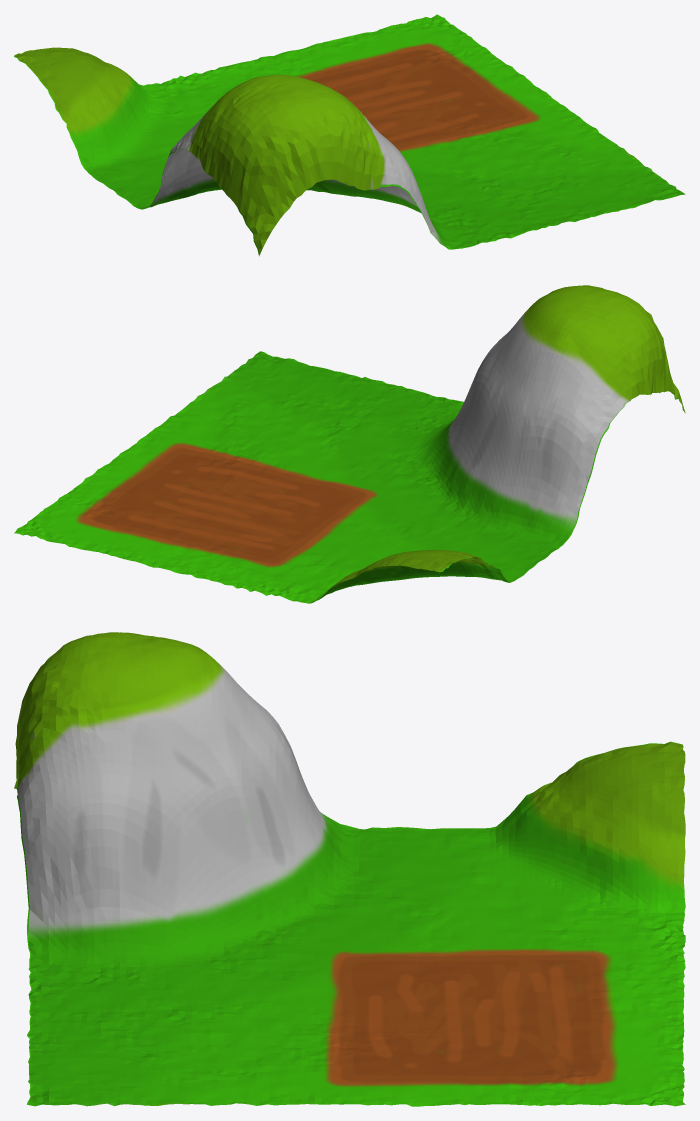
File: map.obj
3 renders of one model, top to bottom at view 1: azimuth 30°, elevation 25°; view 2: azimuth 150°, elevation 25°; view 3: azimuth 270°, elevation 25°, orthographic. The views are drawn at different scales.
Parts seen in each view (by area): view 1: Plane; view 2: Plane; view 3: Plane.
Part boxes in pixels (x1,y1,x2,y2): Plane: [14, 14, 685, 256]; Plane: [14, 285, 685, 603]; Plane: [14, 632, 685, 1106].
Bounding box in the file's own units: 20.53 × 7.59 × 20.53.
Materials: 1 (1 with a texture image).
